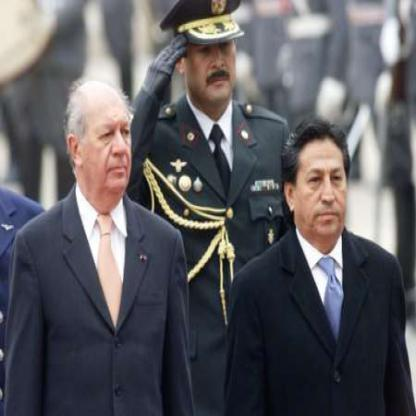face: (293, 122, 352, 243), (80, 83, 137, 201), (183, 1, 241, 110)
